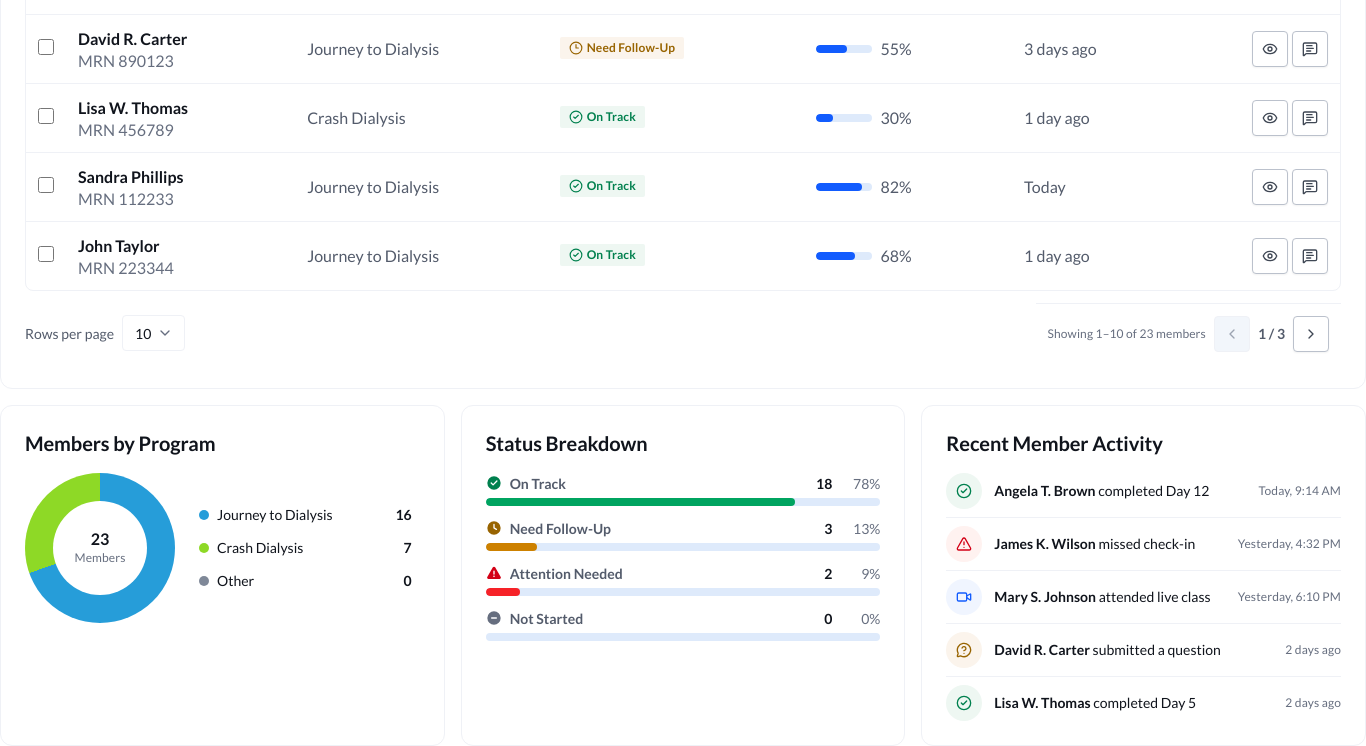
it: filtering from the page › narrows by program from the chart legend
(page scrolled)
Click the button "Crash Dialysis 7".
click(305, 548)  # box [191,533,420,562]
(page scrolled)
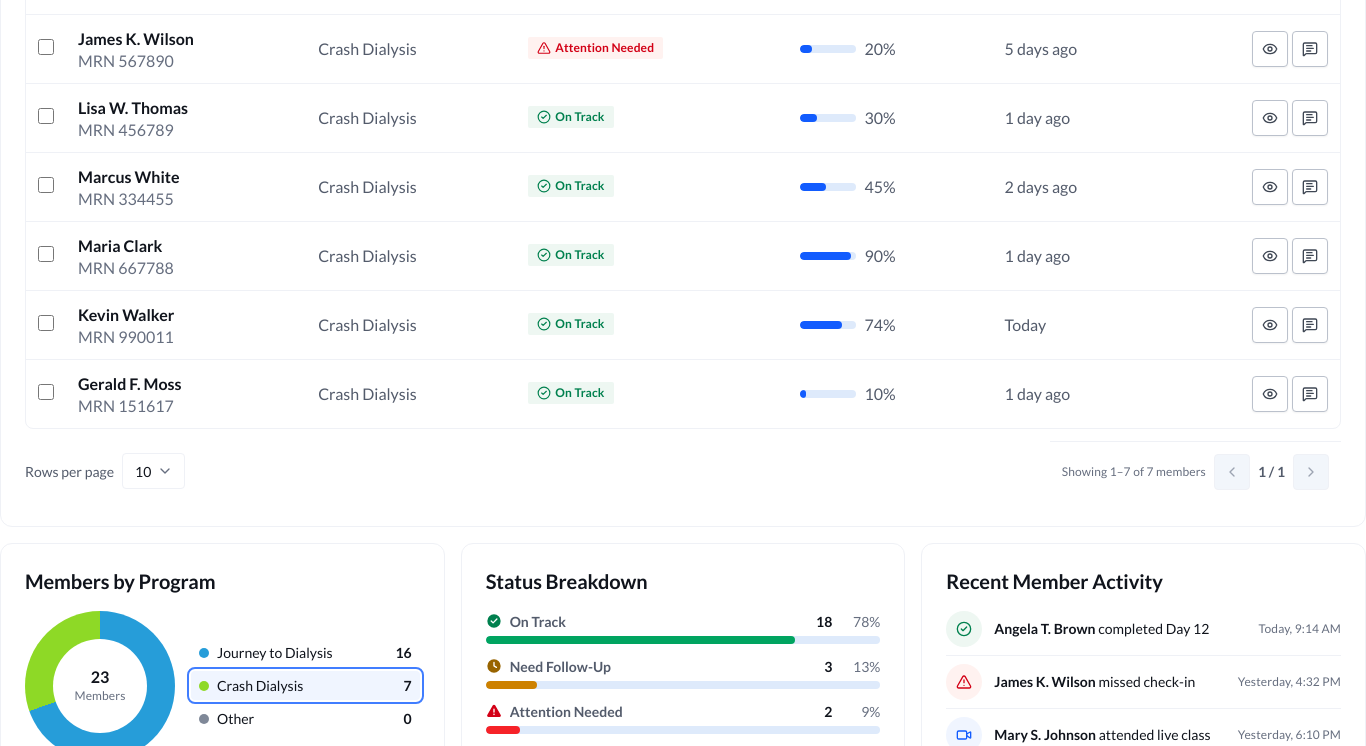
Check: the text "Showing 1–7 of 7 members" is shown, box [1062,463,1206,481]
